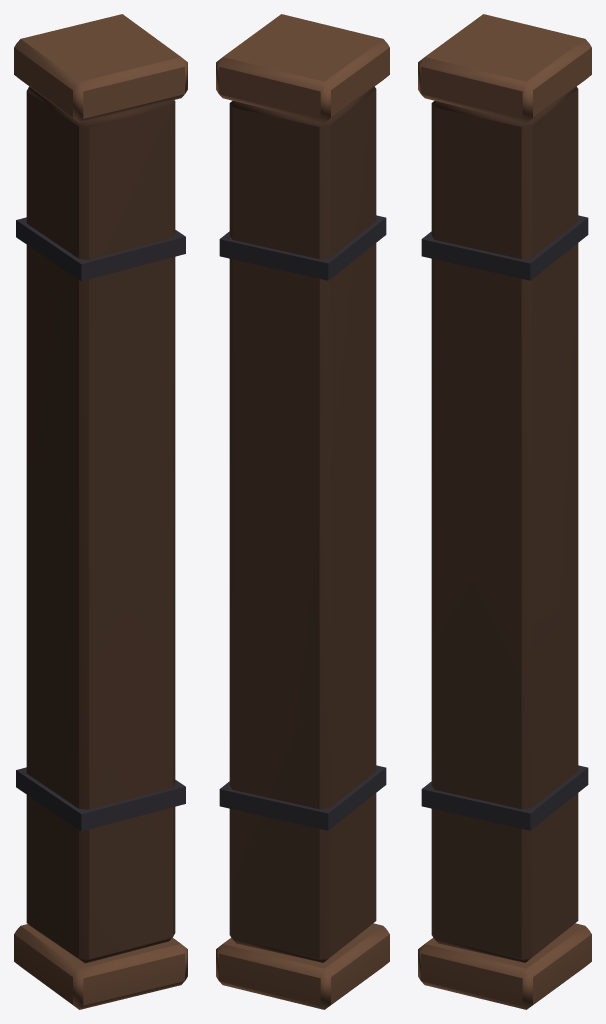
Rendered from qb_pillar_wood.glb.
The picture shows the model from 3 angles, left to right: view 1: azimuth 30°, elevation 25°; view 2: azimuth 150°, elevation 25°; view 3: azimuth 330°, elevation 25°; orthographic projection.
Parts seen in each view (by area): view 1: qb_pillar_wood; view 2: qb_pillar_wood; view 3: qb_pillar_wood.
Boxes of the visible parts, x1,y1,x2,y2 form: qb_pillar_wood: (14,14,187,1009); qb_pillar_wood: (216,14,389,1009); qb_pillar_wood: (418,14,591,1009).
Size of the model in its own units: 0.35 by 2.7 by 0.35.
